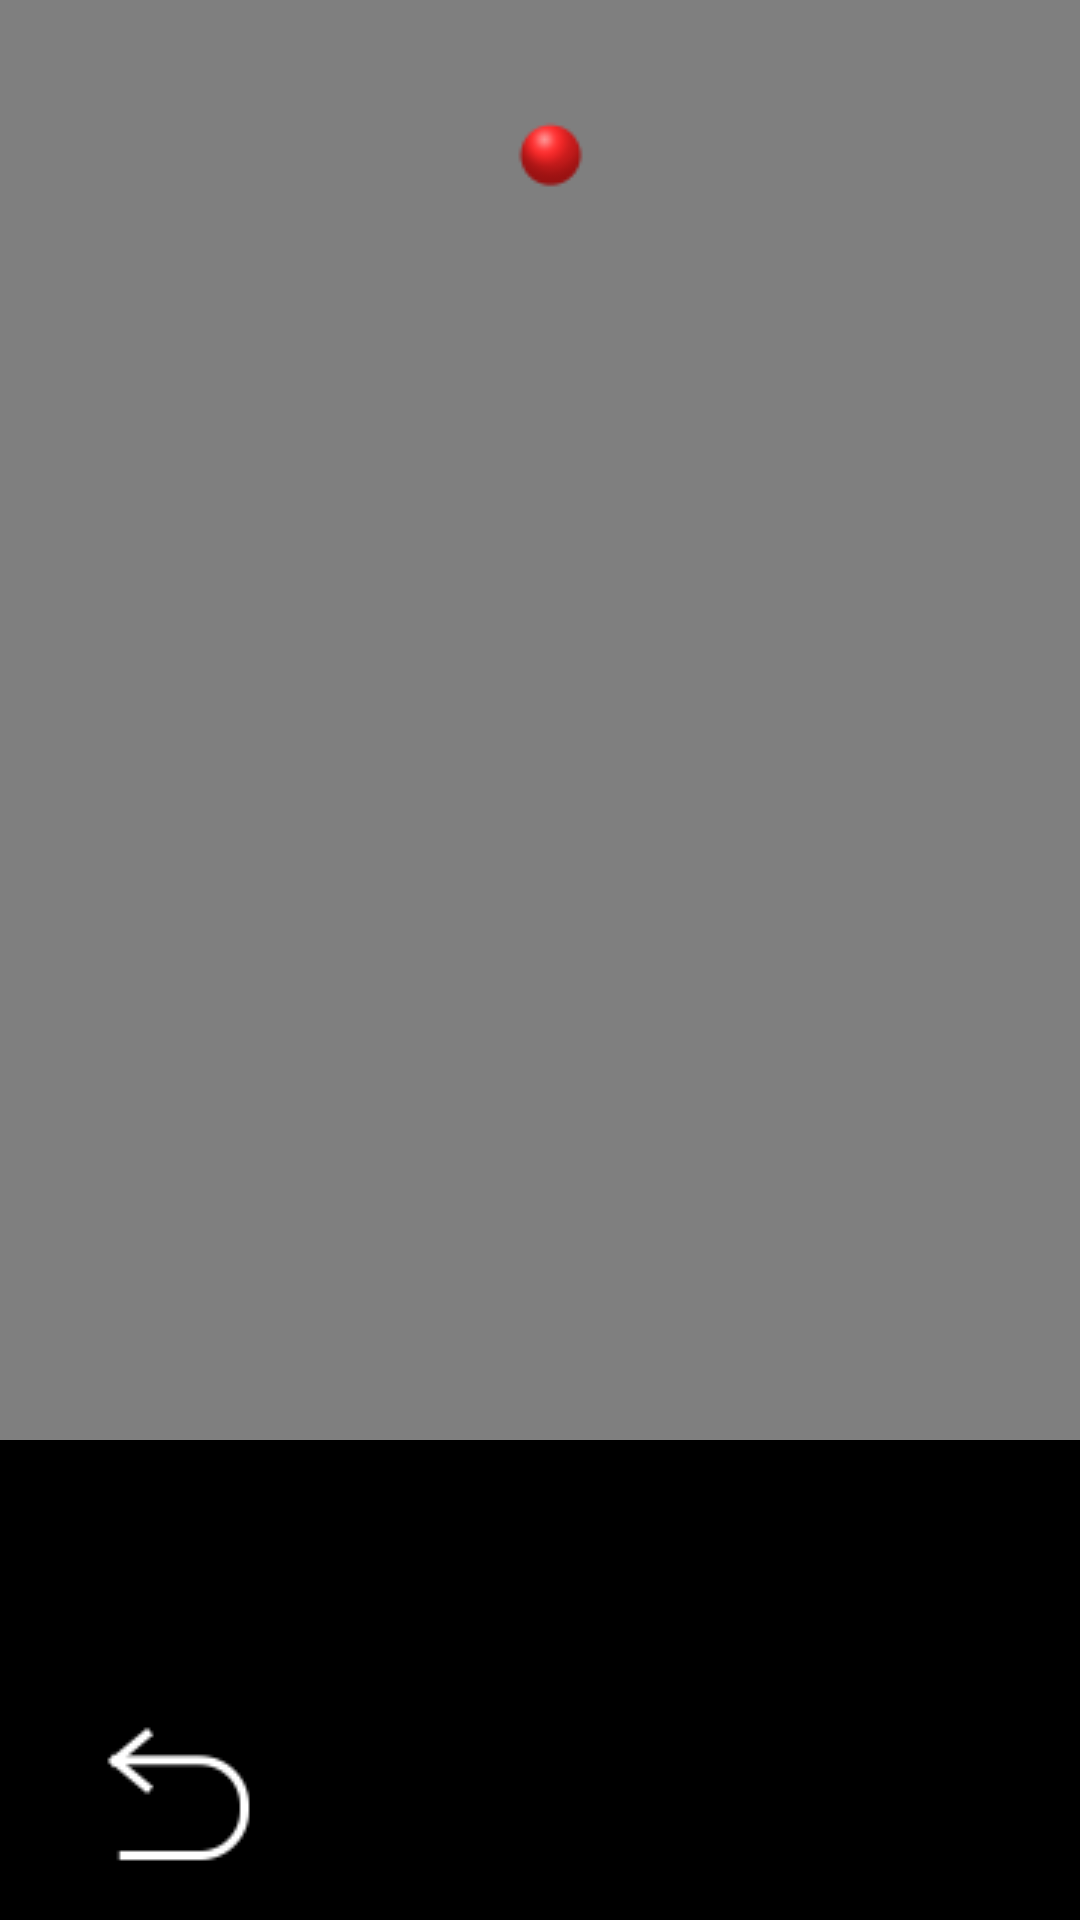

Icon click points for this 1080 x 1920 phone screenshot, format point (x, y):
record point: point (550, 155)
reverse back: point (178, 1794)
